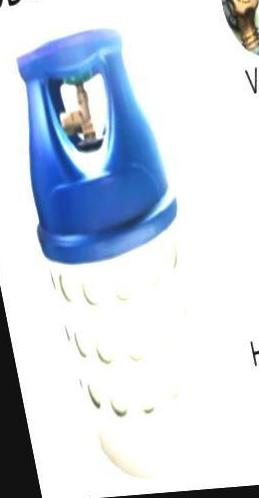cylinder: (1, 0, 259, 498)
